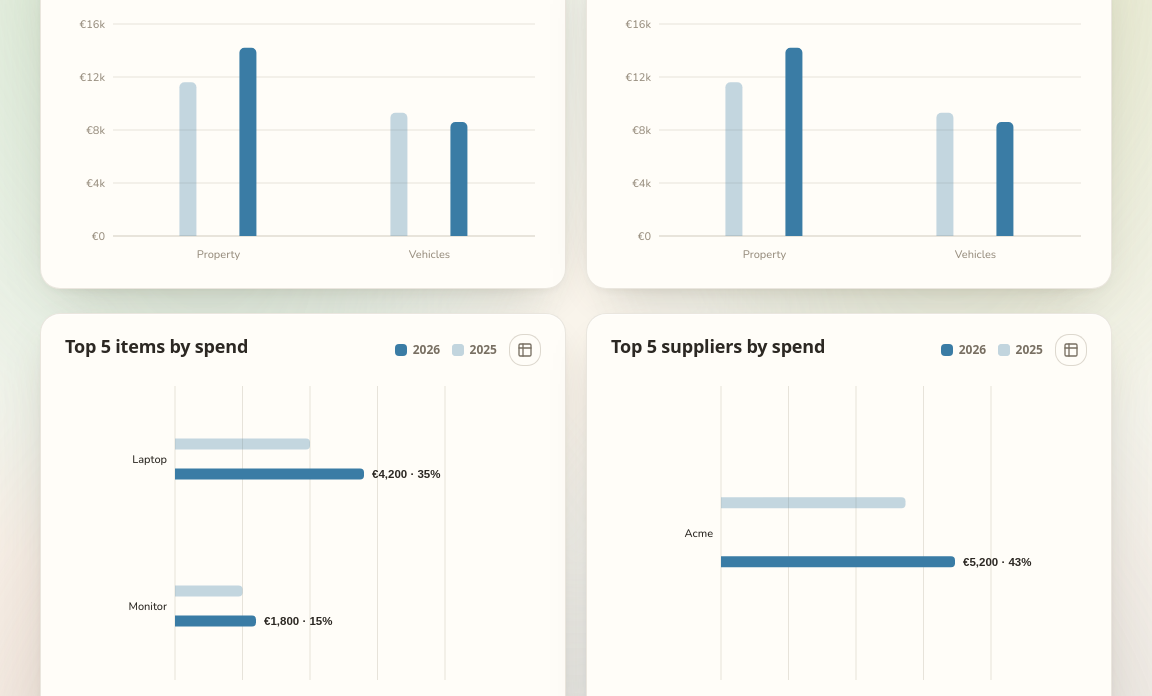
Test: Analytics Inventory, Travel and Cross-module tabs › exposes top-5 share of total in the accessible data table, not only the bar label
(page scrolled)
Click the button named "Show data table" in the row of "Top 5 items by spend" at x=525, y=350, box [509,334,541,366]
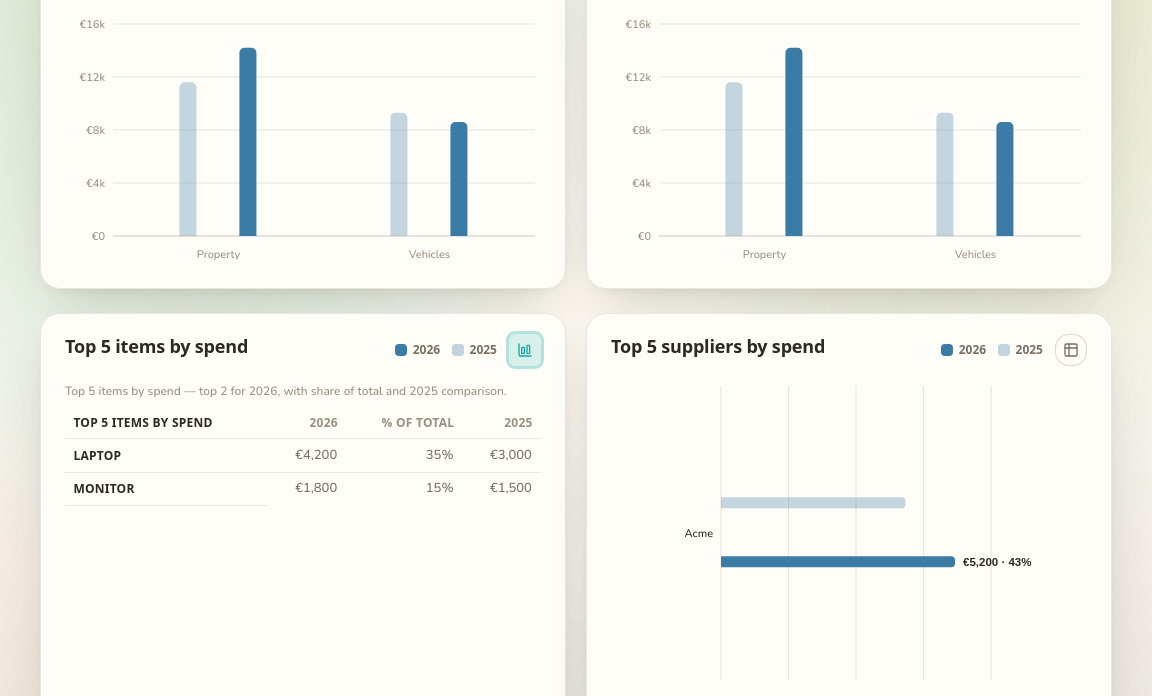
Expected: the text "35%" is shown, [346,439,463,472]
Now the column heading "% of total" is shown, box [346,408,463,439]
